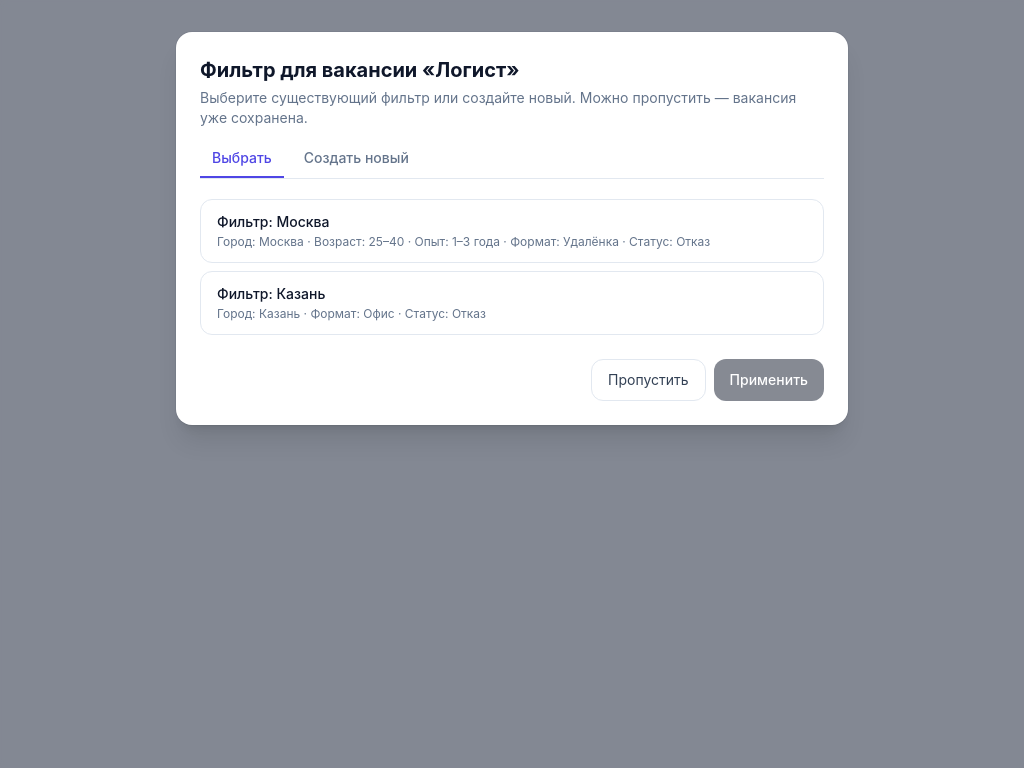
Test: VacancyFilterStepModal › loads existing filters and shows details on select
Expected: the heading "Фильтр для вакансии «Логист»" is shown, [200,58,519,82]
Click the button "Фильтр: Москва" at (512, 231), box [200,199,824,263]
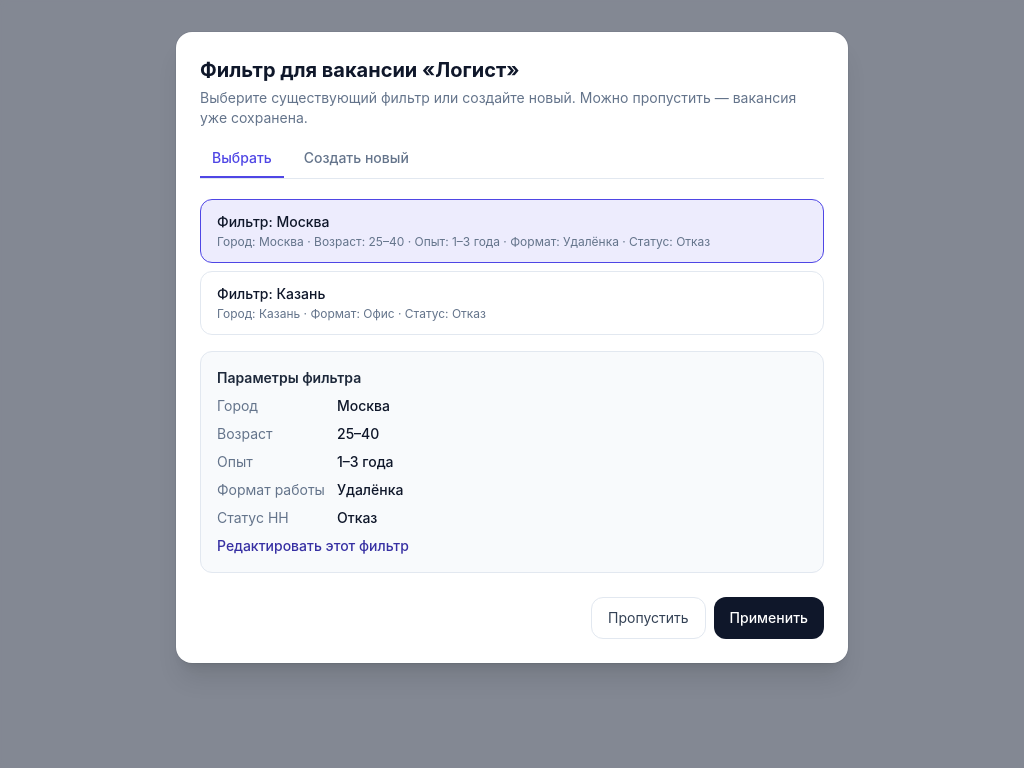
Expected: the text "Удалёнка" is shown, [337,480,403,500]
Expected: the text "25–40" is shown, [337,424,379,444]
